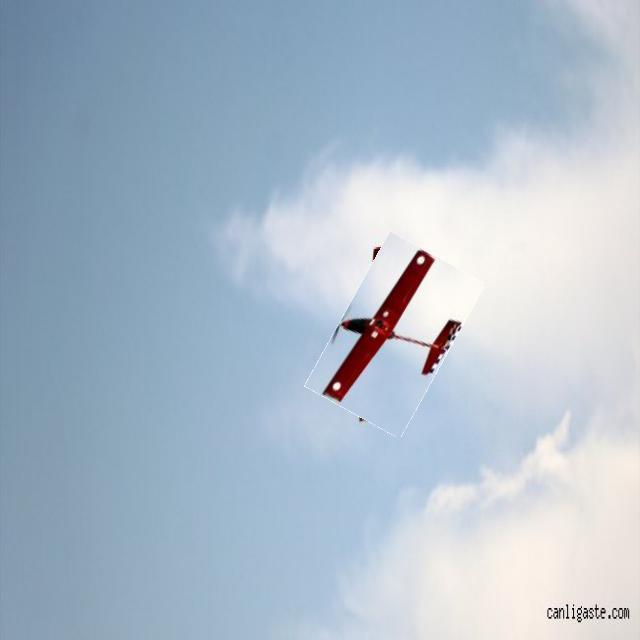UAV: (360, 216, 442, 524)
